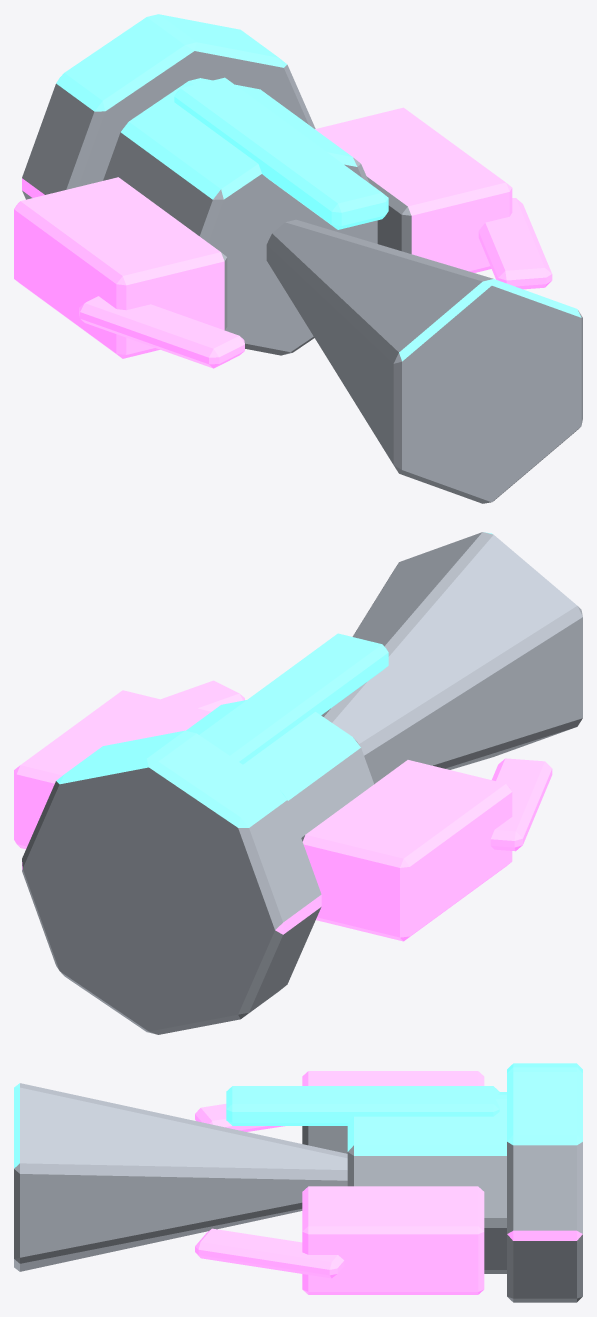
The model's file is Ship_Nose_Upgrade02.fbx.
The picture shows the model from 3 angles, top to bottom: view 1: azimuth 30°, elevation 25°; view 2: azimuth 150°, elevation 25°; view 3: azimuth 270°, elevation 25°; orthographic projection. The views are drawn at different scales.
Visible parts, largest first — view 1: Ship_Nose_Upgrade02; view 2: Ship_Nose_Upgrade02; view 3: Ship_Nose_Upgrade02.
Part boxes in pixels (x1,y1,x2,y2): Ship_Nose_Upgrade02: (14, 14, 582, 503); Ship_Nose_Upgrade02: (14, 532, 582, 1034); Ship_Nose_Upgrade02: (14, 1063, 582, 1302).
Bounding box in the file's own units: 1.4 × 0.8247 × 1.88.
